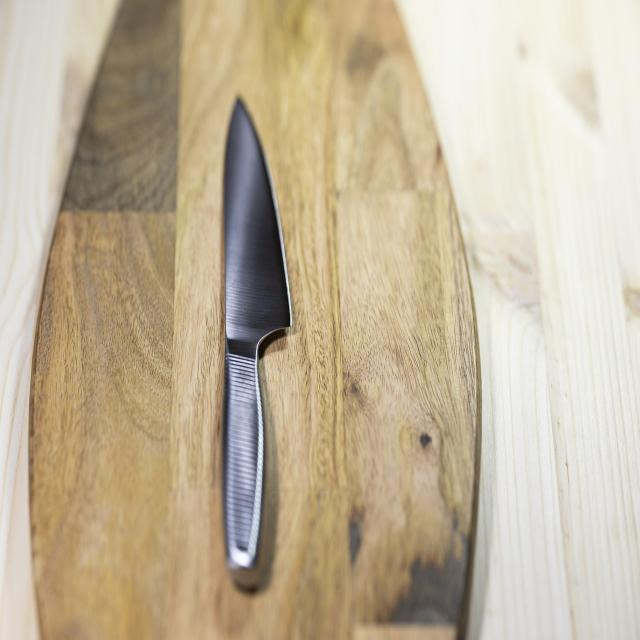knife: (222, 93, 293, 587)
